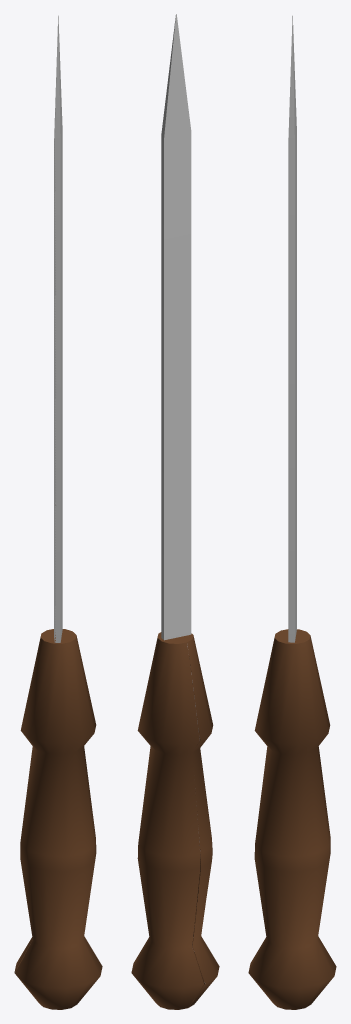
Rendered from simple_fbx.FBX.
The picture shows the model from 3 angles, left to right: view 1: azimuth 90°, elevation 25°; view 2: azimuth 210°, elevation 25°; view 3: azimuth 270°, elevation 25°; orthographic projection.
Parts seen in each view (by area): view 1: simple knife; view 2: simple knife; view 3: simple knife.
Part boxes in pixels (<box>): simple knife: <box>14,15,102,1009</box>; simple knife: <box>131,14,219,1009</box>; simple knife: <box>248,15,336,1009</box>.
Size of the model in its own units: 9.37 by 116 by 9.37.
1 material, 1 textured.
